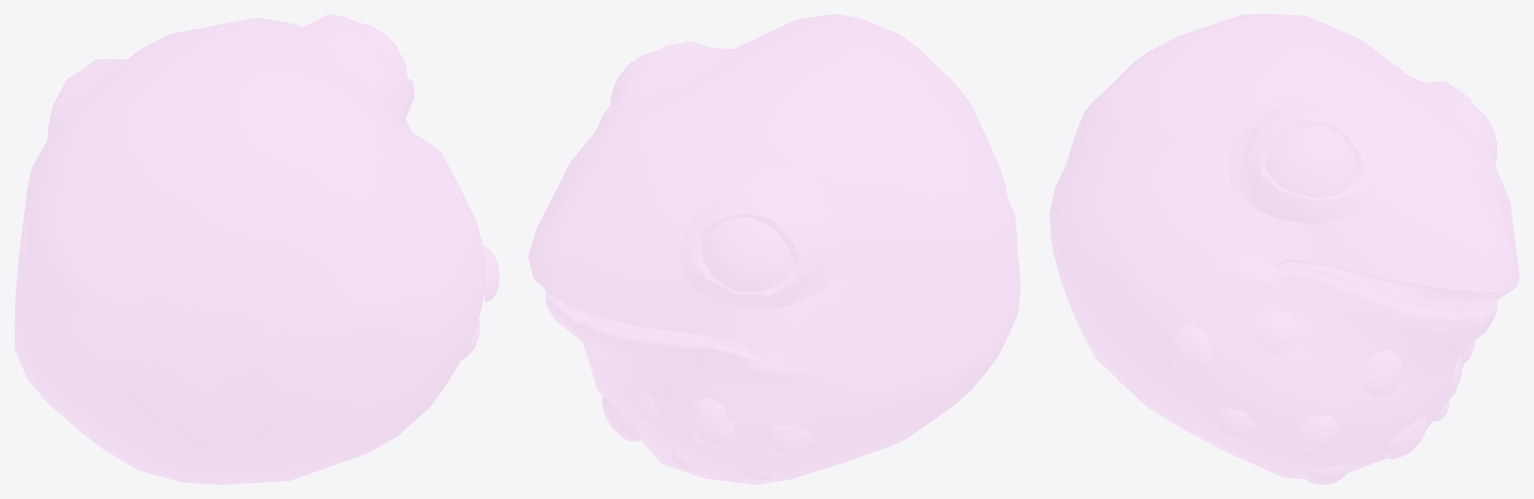
File: FrogSoulHead.fbx
3 views of the same model, side by side, from view 1: azimuth 30°, elevation 25°; view 2: azimuth 150°, elevation 25°; view 3: azimuth 270°, elevation 25° (orthographic). The views are drawn at different scales.
Parts seen in each view (by area): view 1: frog_head; view 2: frog_head; view 3: frog_head.
Boxes of the visible parts, box(x1,y1,x2,y2) form: frog_head: box(14, 14, 499, 484); frog_head: box(528, 14, 1020, 484); frog_head: box(1049, 14, 1519, 484).
Size of the model in its own units: 0.7412 by 0.7717 by 0.7334.
